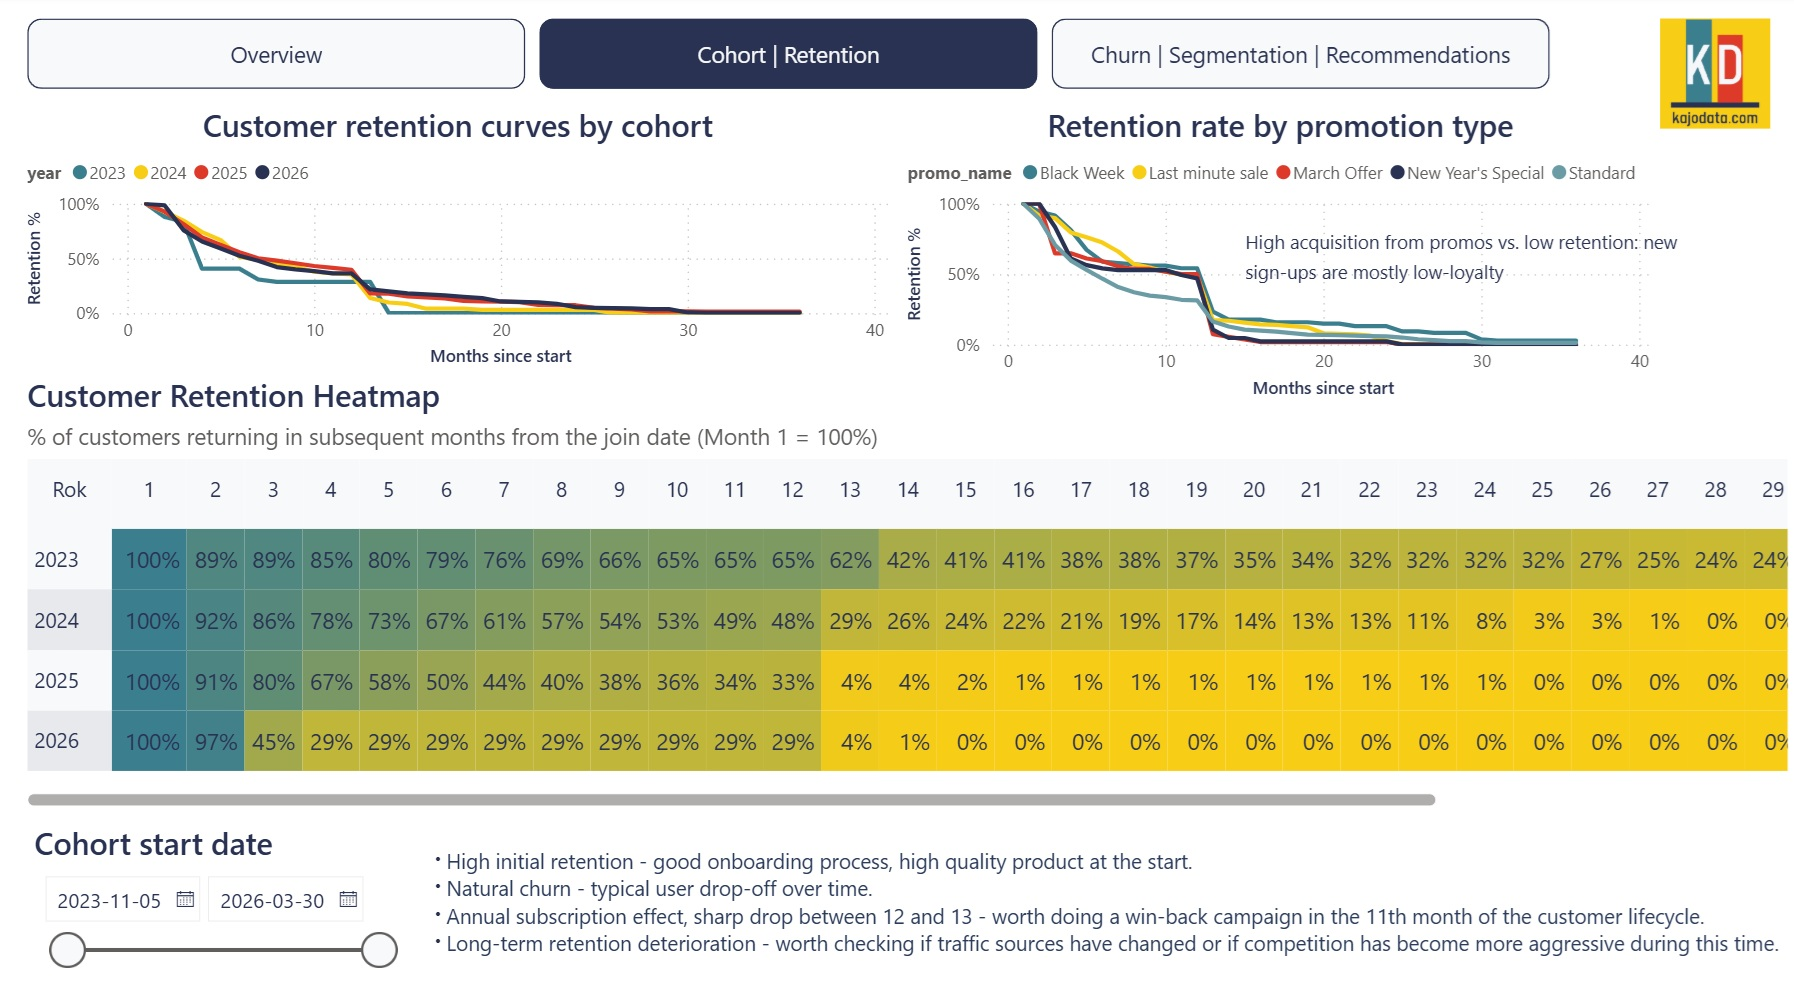

The dashboard page shown, as its layout file describes it:
{"tool":"powerbi","page":{"name":"Cohort | Retention","canvas":[1280,720],"ordinal":1},"visuals":[{"type":"pageNavigator","box":[23.8,17.8,1083.6,50.5],"z":0},{"type":"image","box":[1184.1,17.4,78.4,78.4],"z":1000},{"type":"pivotTable","title":"Customer Retention Heatmap","fields":{"Columns":["Months_table.month_index"],"Values":["Sale.Professional Retention %"],"Rows":["Sale.cohort_date.Odmiana.Hierarchia dat.Rok"]},"box":[18.7,269.9,1261.2,312.2],"z":2000},{"type":"slicer","title":"Cohort start date","fields":{"Values":["Sale.cohort_date"]},"box":[23.6,588.3,271.1,115.7],"z":3000},{"type":"textbox","box":[298.5,600.7,981.3,90.8],"z":4000},{"type":"lineChart","title":"Customer retention curves by cohort","fields":{"Category":["Months_table.month_index"],"Y":["Sale.Retention %"],"Series":["Calendar.year"]},"box":[18.7,78.4,621.9,191.5],"z":5000},{"type":"lineChart","title":"Retention rate by promotion type","fields":{"Category":["Months_table.month_index"],"Y":["Sale.Retention %"],"Series":["First_purchase.promo_name"]},"box":[644.3,78.4,539.8,213.9],"z":6000},{"type":"textbox","box":[884.3,159.2,339.5,78.4],"z":8001}]}

Visuals, with their boxes in screenshot pixels (x1, y1, x2, y2), scaled from the page's 1280x720 canvas onto the 1794x999 screenshot:
pageNavigator: [33, 25, 1552, 95]
image: [1660, 24, 1769, 133]
"Customer Retention Heatmap" pivotTable: [26, 374, 1793, 808]
"Cohort start date" slicer: [33, 816, 413, 977]
textbox: [418, 833, 1793, 959]
"Customer retention curves by cohort" lineChart: [26, 109, 898, 374]
"Retention rate by promotion type" lineChart: [903, 109, 1660, 406]
textbox: [1239, 221, 1715, 330]
